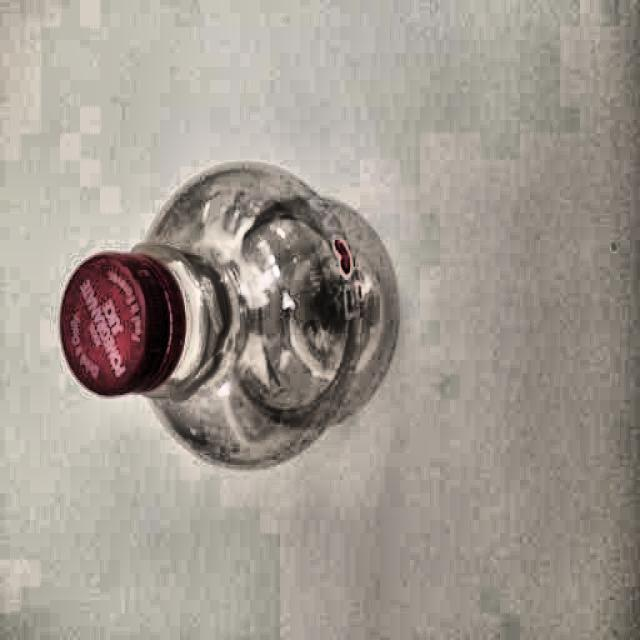plastic: (62, 168, 400, 479)
